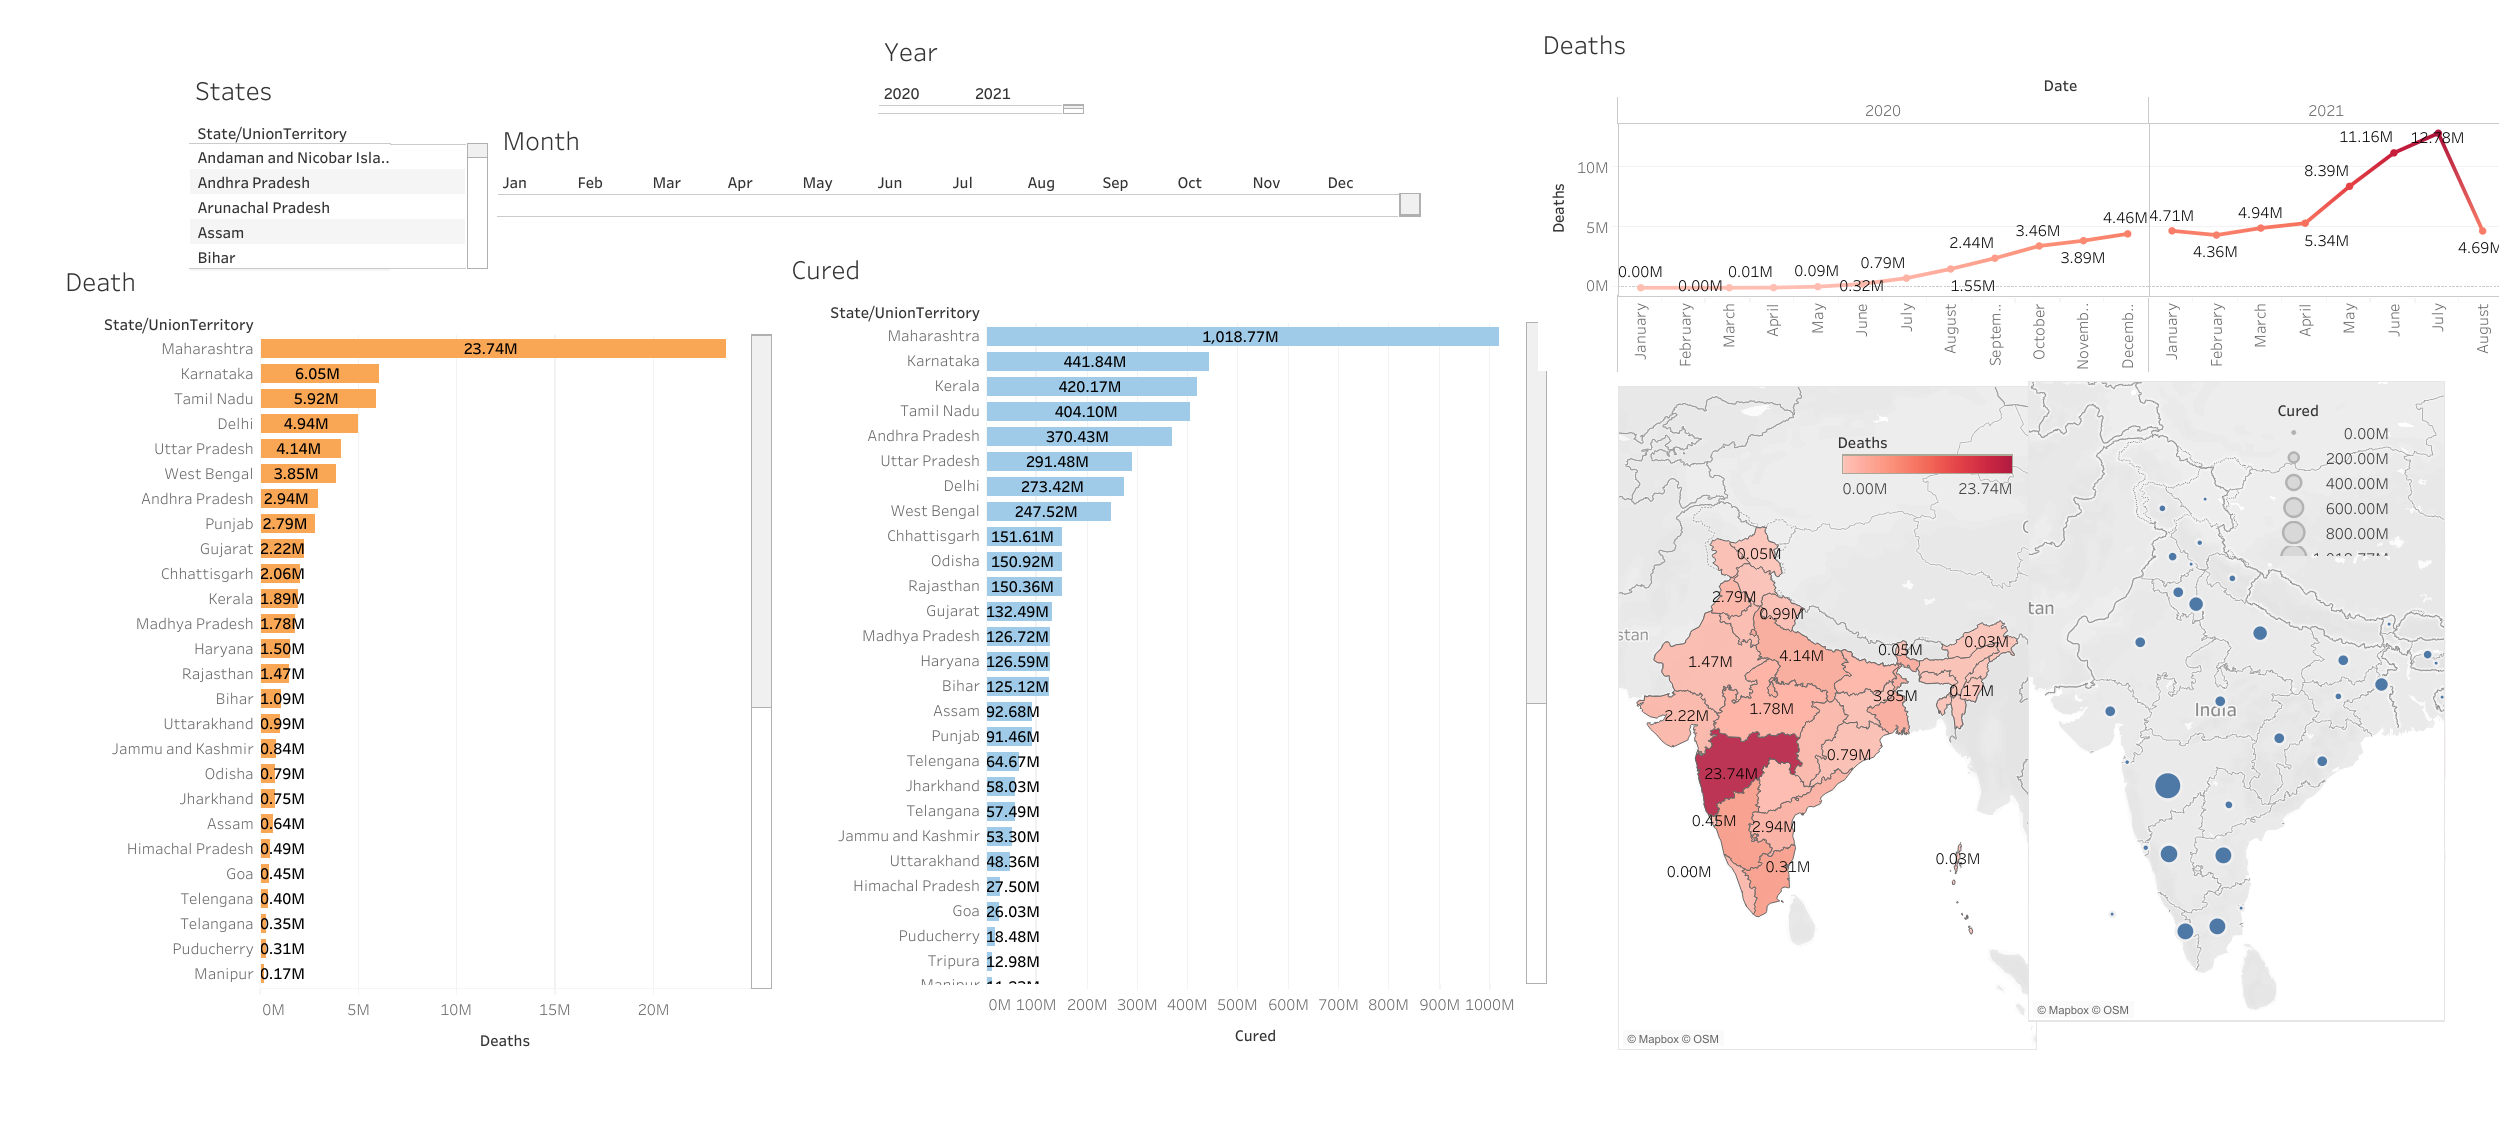

This screenshot's page, from the dashboard's own definition file:
{"tool":"tableau","page":{"name":"Dashboard 1","canvas":[1000,1000],"units":"permille","ordinal":0},"visuals":[{"type":"worksheet","title":"confirmed cases","mark":"Line","rows":["Confirmed"],"cols":["Date","Date"],"box":[375,13.3,312,330]},{"type":"worksheet","title":"Year","mark":"Automatic","cols":["Date"],"box":[1.5,17.8,102.5,82.2]},{"type":"worksheet","title":"Deaths","mark":"Automatic","rows":["Deaths"],"cols":["Date","Date"],"box":[687.5,32.2,313,314.4]},{"type":"worksheet","title":"Month","mark":"Automatic","cols":["Date"],"box":[0.5,105.6,375.5,91.1]},{"type":"worksheet","title":"Confirmed","mark":"Automatic","rows":["State/UnionTerritory"],"cols":["Confirmed"],"box":[4.5,282.2,373,714.4]},{"type":"worksheet","title":"State Indentification(Deaths)","mark":"Automatic","box":[639.5,348.9,181.5,631.1]},{"type":"worksheet","title":"Death1","mark":"Automatic","rows":["State/UnionTerritory"],"cols":["Deaths"],"box":[386,350,251.5,330]},{"type":"worksheet","title":"State Indentification(Cured)","mark":"Automatic","box":[825.5,353.3,174.5,617.8]},{"type":"legend","title":"State Indentification(Cured)","param":"[federated.0l2cjiq0oax7k919h06fc0604m9f].[sum:Cured:qk]","box":[937,374.4,60,142.2]},{"type":"legend","title":"State Indentification(Deaths)","param":"[federated.0l2cjiq0oax7k919h06fc0604m9f].[sum:Deaths:qk]","box":[738.5,385.6,73,75.6]},{"type":"worksheet","title":"cure1","mark":"Automatic","rows":["State/UnionTerritory"],"cols":["Cured"],"box":[386,673.3,251.5,323.3]}]}

Visuals, with their boxes on the dashboard's canvas, which has no fixed pixel size, in thousandths of its width and height (x1, y1, x2, y2). These are canvas units, not pixel positions in the 2499x1124 screenshot, which may show the page scaled, cropped or inside an application window:
"confirmed cases" worksheet (Line marks): 375/13/687/343
"Year" worksheet: 2/18/104/100
"Deaths" worksheet: 688/32/1000/347
"Month" worksheet: 0/106/376/197
"Confirmed" worksheet: 4/282/378/997
"State Indentification(Deaths)" worksheet: 640/349/821/980
"Death1" worksheet: 386/350/638/680
"State Indentification(Cured)" worksheet: 826/353/1000/971
"State Indentification(Cured)" legend: 937/374/997/517
"State Indentification(Deaths)" legend: 738/386/812/461
"cure1" worksheet: 386/673/638/997
